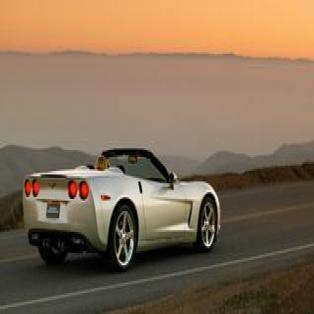Auto: (23, 146, 221, 276)
